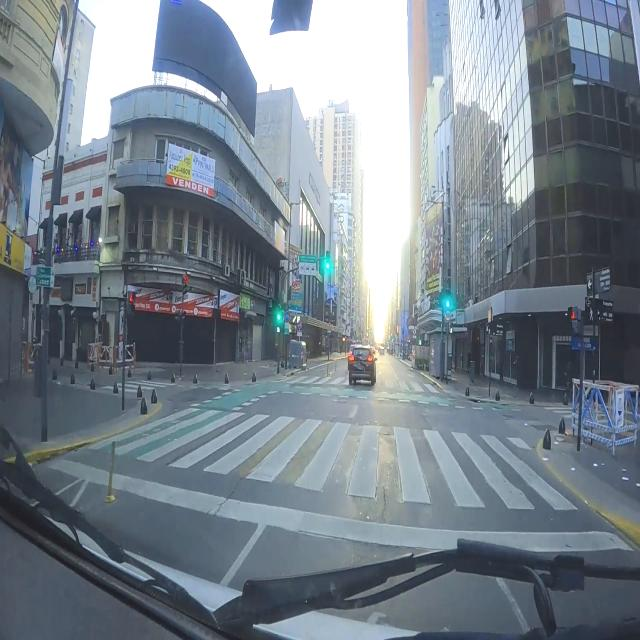car: (348, 346, 376, 385), (379, 346, 384, 355)
